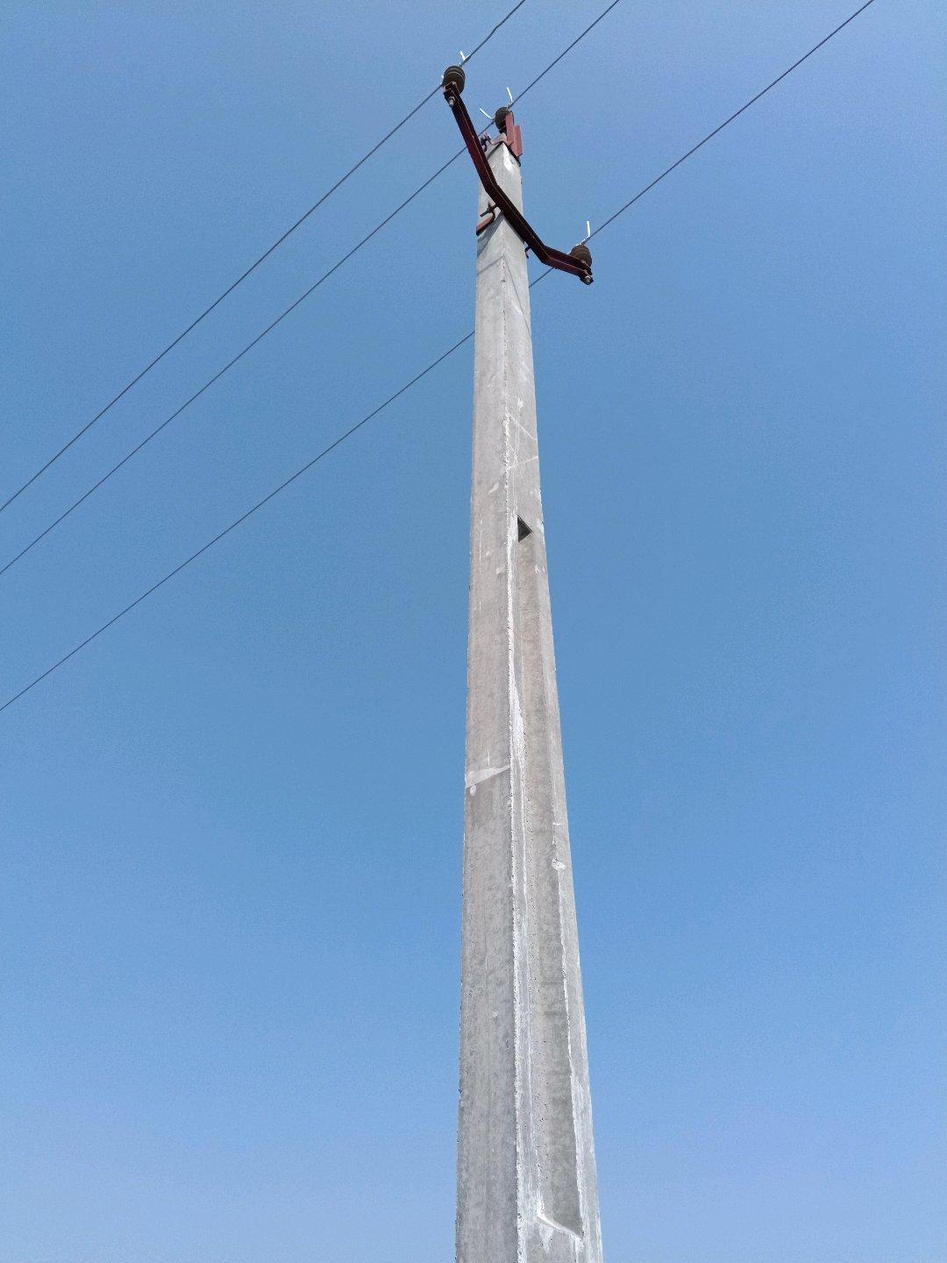{"0" "insulator", "1" "pole", "2" "crossarm", "3" "conductor", "4" "street_: (441, 68, 602, 1262), (659, 179, 661, 181)
